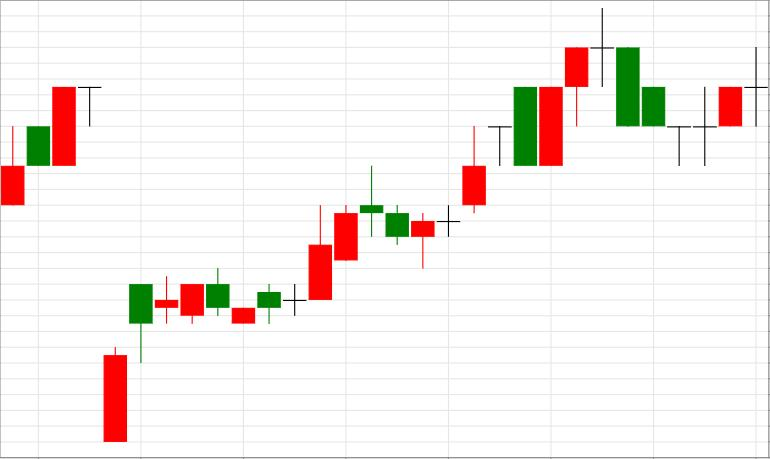evening_star_fall: (411, 9, 639, 269)
